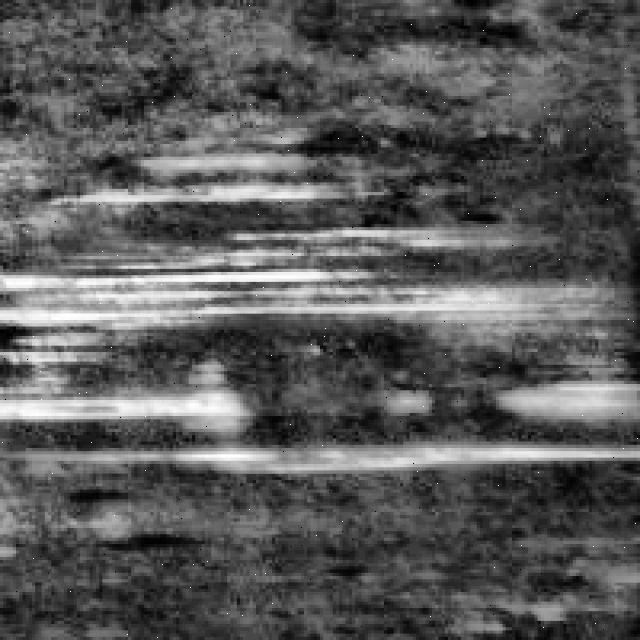Inclusion: (10, 368, 640, 467), (3, 224, 534, 330), (74, 131, 362, 208)
